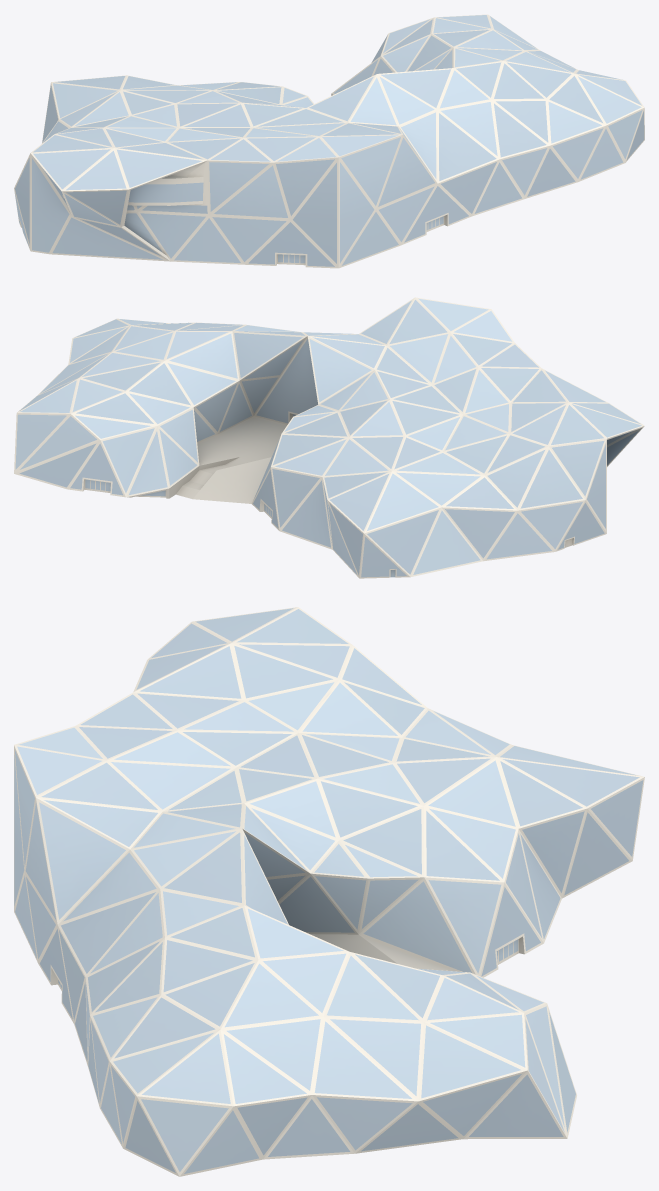
3 renders of one model, top to bottom at view 1: azimuth 30°, elevation 25°; view 2: azimuth 150°, elevation 25°; view 3: azimuth 270°, elevation 25°, orthographic. The views are drawn at different scales.
Visible parts, largest first — view 1: 70030076203820556; view 2: 70030076203820556; view 3: 70030076203820556.
Part boxes in pixels (x1=…): 70030076203820556: x1=14, y1=14, x2=644, y2=268; 70030076203820556: x1=14, y1=297, x2=644, y2=578; 70030076203820556: x1=14, y1=607, x2=644, y2=1176.
Bounding box in the file's own units: 144 × 26.47 × 90.42.
1 material, 1 textured.
